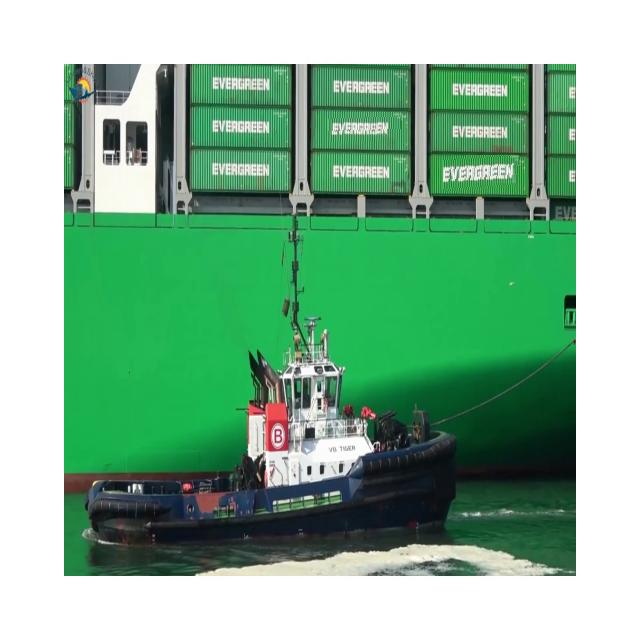OCR: (443, 155, 520, 192), (328, 112, 402, 142)
